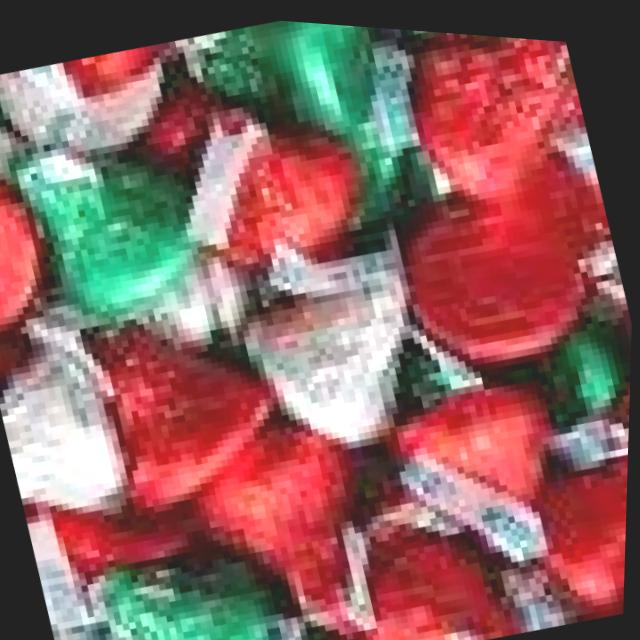kisses: (220, 217, 453, 474), (0, 324, 147, 536), (388, 23, 560, 55)
